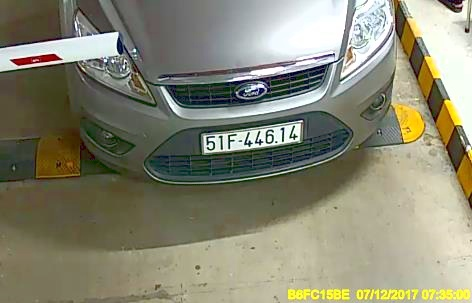plate: (199, 120, 309, 156)
